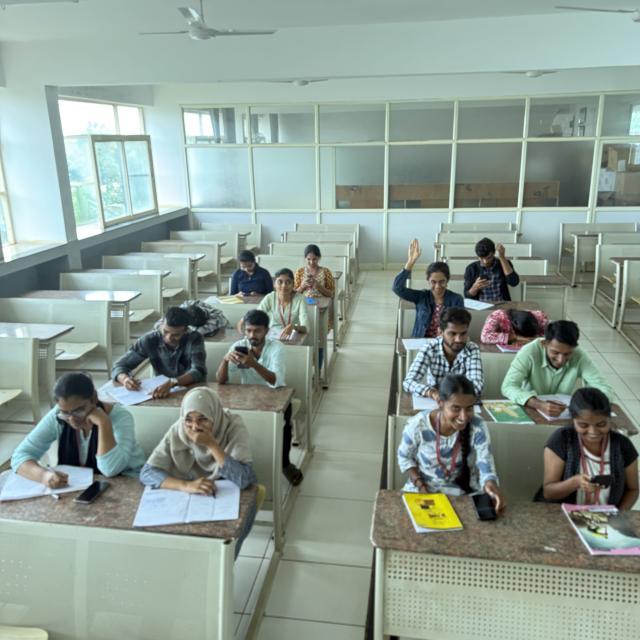Hand Rising: (384, 227, 469, 328)
Sleeping: (148, 284, 230, 344), (479, 295, 561, 354)
Using Phone: (398, 366, 521, 522), (548, 379, 640, 500), (460, 214, 526, 306), (222, 311, 292, 394), (288, 225, 338, 306), (215, 247, 272, 304)
Writing: (0, 368, 113, 484), (515, 320, 611, 418), (116, 307, 206, 395)
